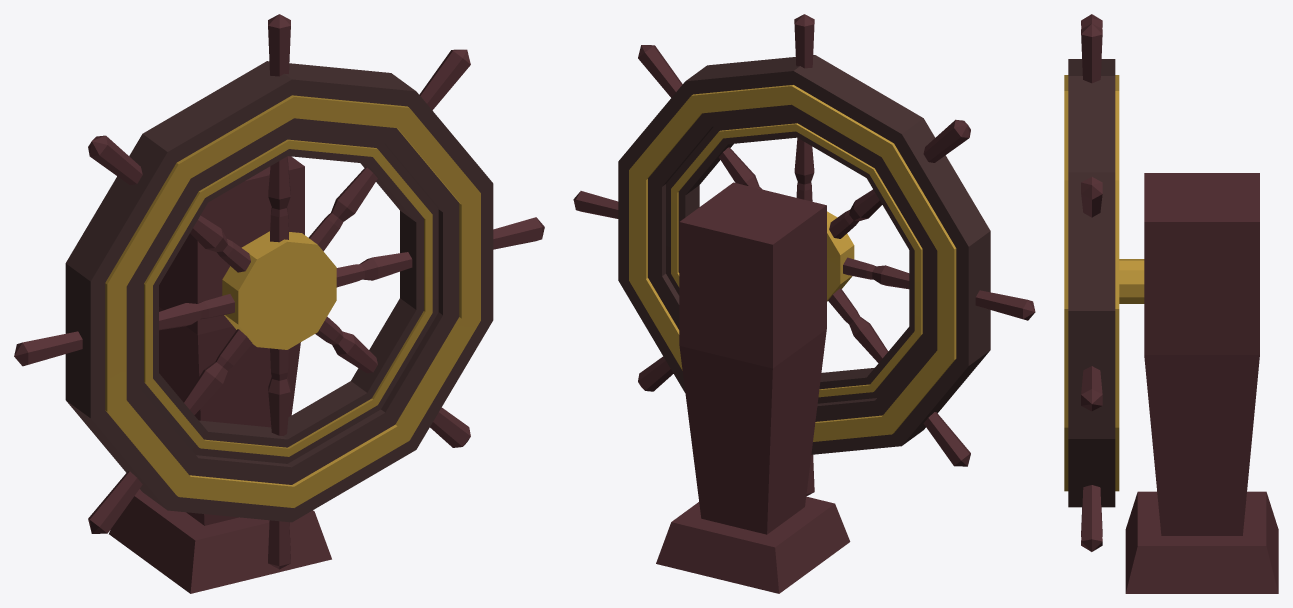
Rendered from Ship_Wheel_01.fbx.
3 views of the same model, side by side, from view 1: azimuth 30°, elevation 25°; view 2: azimuth 150°, elevation 25°; view 3: azimuth 270°, elevation 25° (orthographic). The views are drawn at different scales.
Parts seen in each view (by area): view 1: Ship_Wheel_01; view 2: Ship_Wheel_01; view 3: Ship_Wheel_01.
Part boxes in pixels (x1,y1,x2,y2): Ship_Wheel_01: [14, 14, 544, 593]; Ship_Wheel_01: [573, 14, 1035, 593]; Ship_Wheel_01: [1064, 14, 1278, 593].
Size of the model in its own units: 135 by 140 by 50.47.
